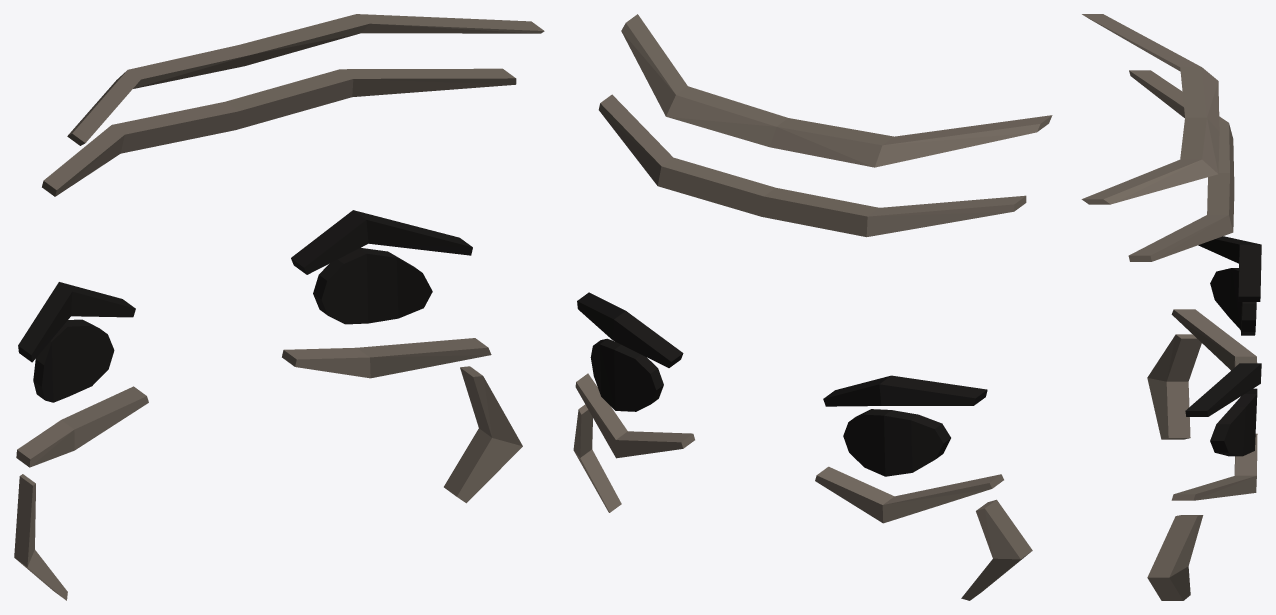
Rendered from leathery_male_face.obj.
3 renders of one model, left to right at view 1: azimuth 30°, elevation 25°; view 2: azimuth 150°, elevation 25°; view 3: azimuth 270°, elevation 25°, orthographic. The views are drawn at different scales.
Visible parts, largest first — view 1: leathery_male_face; view 2: leathery_male_face; view 3: leathery_male_face.
Boxes of the visible parts, bbox=[...] form: leathery_male_face: bbox=[14, 14, 544, 600]; leathery_male_face: bbox=[573, 14, 1052, 600]; leathery_male_face: bbox=[1081, 14, 1261, 600].
Bounding box in the file's own units: 0.3017 × 0.2911 × 0.1151.
